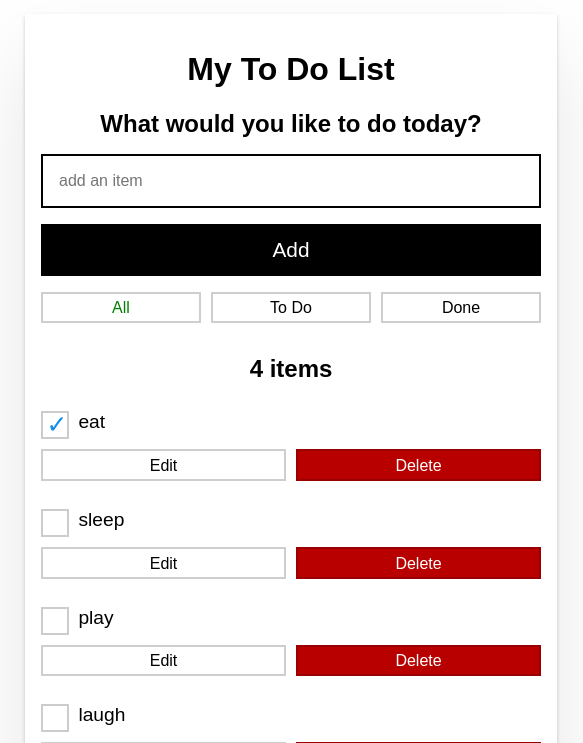
Todo list Test › should add an item
// Type new item in input
Type "test app" into the field with id "addItemInput" at (291, 181), box [41,154,541,208]
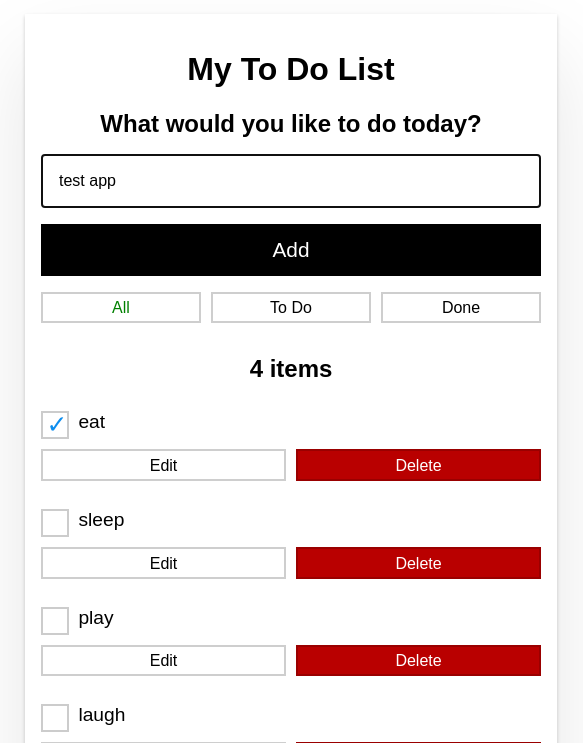
// Press Add
Click the button "Add" at (291, 250), box [41,224,541,276]
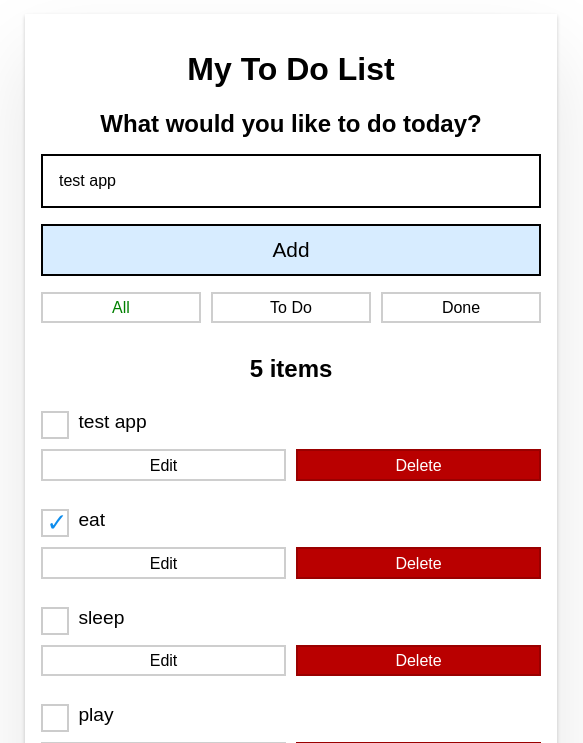
Check: the text "eat" is shown, box [78,509,105,530]
Check: the text "test app" is shown, box [78,411,146,432]
